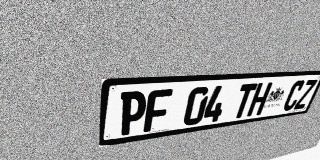0: (182, 86, 211, 126)
4: (201, 85, 230, 124)
C: (281, 80, 306, 112)
F: (143, 89, 173, 132)
H: (246, 82, 273, 117)
P: (118, 90, 148, 136)
T: (231, 83, 258, 119)
Z: (293, 79, 318, 110)
